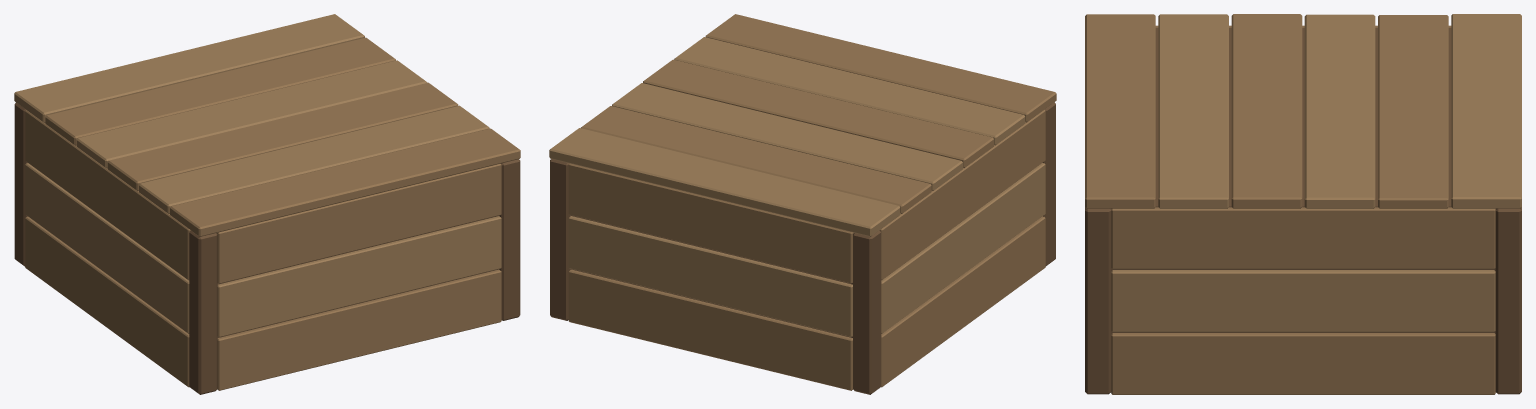
File: wood_foundation.glb
3 views of the same model, side by side, from view 1: azimuth 30°, elevation 25°; view 2: azimuth 150°, elevation 25°; view 3: azimuth 270°, elevation 25° (orthographic). The views are drawn at different scales.
Visible parts, largest first — view 1: wood_foundation; view 2: wood_foundation; view 3: wood_foundation.
Part boxes in pixels (x1,y1,x2,y2): wood_foundation: [14, 14, 520, 394]; wood_foundation: [549, 14, 1056, 394]; wood_foundation: [1085, 14, 1521, 394].
Size of the model in its own units: 2 by 0.9992 by 2.
